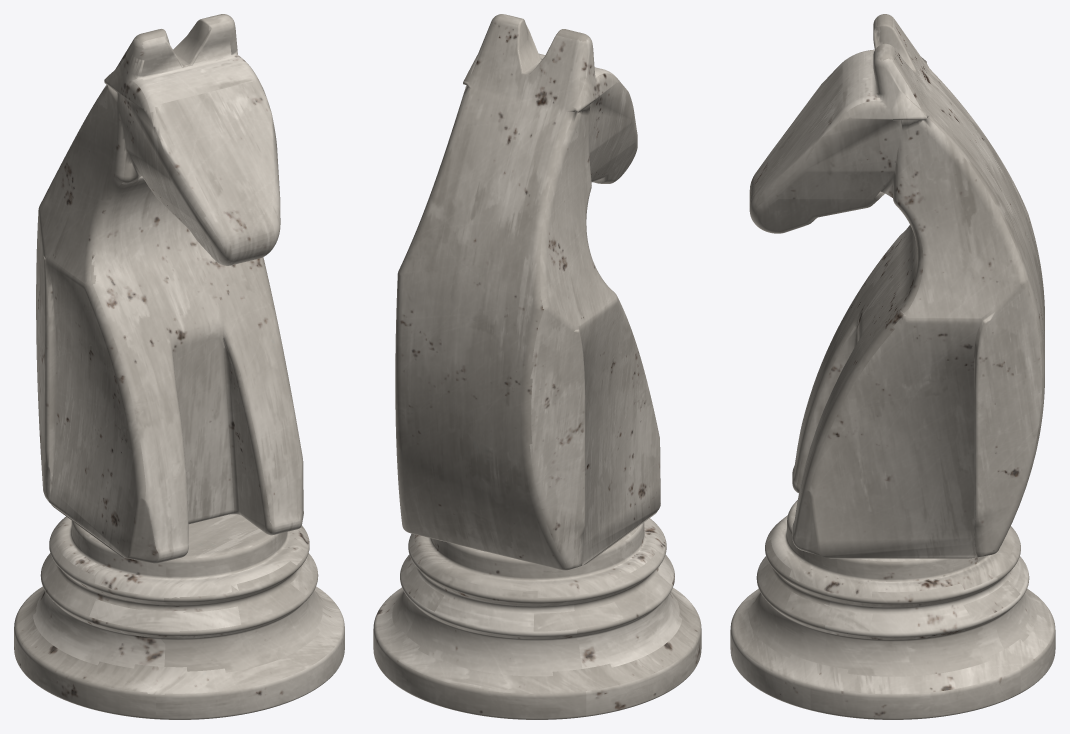
File: wknight.glb
3 renders of one model, left to right at view 1: azimuth 30°, elevation 25°; view 2: azimuth 150°, elevation 25°; view 3: azimuth 270°, elevation 25°, orthographic.
Parts seen in each view (by area): view 1: knight.001; view 2: knight.001; view 3: knight.001.
Boxes of the visible parts, left/top/right/bottom form: knight.001: left=14, top=14, right=344, bottom=719; knight.001: left=373, top=14, right=701, bottom=719; knight.001: left=730, top=14, right=1055, bottom=719.
Bounding box in the file's own units: 0.028 × 0.0588 × 0.028.
1 material, 1 textured.
